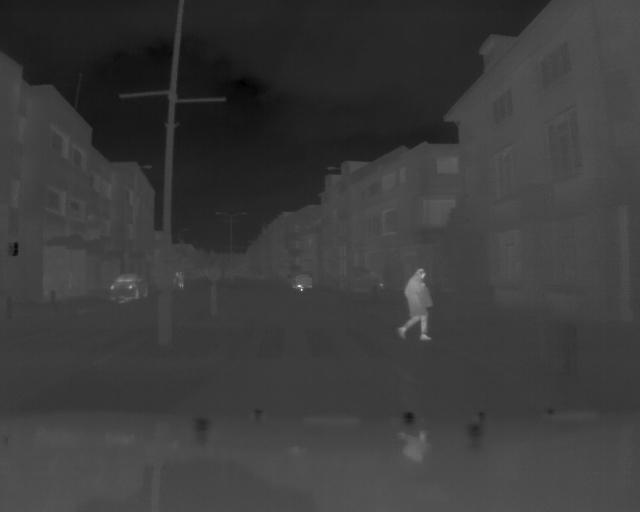car: (105, 271, 151, 302), (289, 271, 315, 293)
person: (397, 266, 435, 343)
